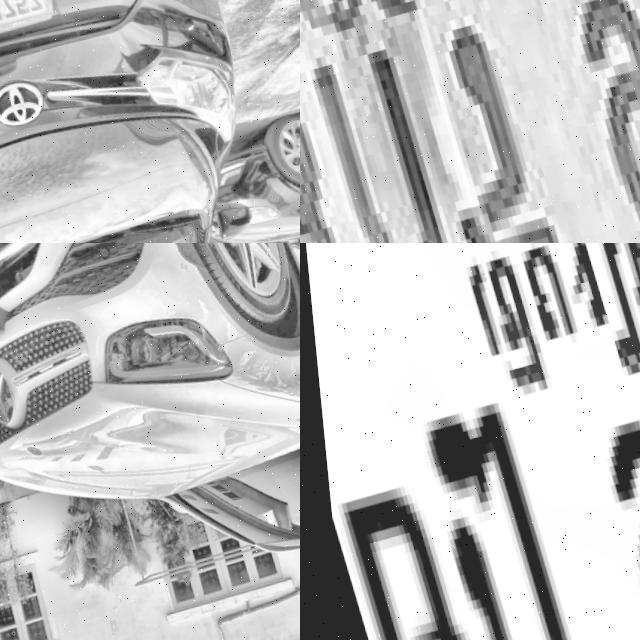license-plate: (300, 243, 640, 640), (300, 0, 640, 243), (0, 0, 55, 52)
